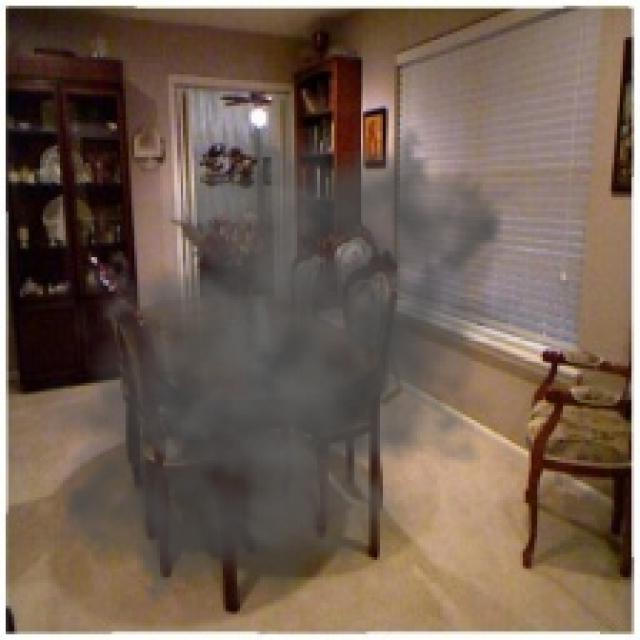smoke: (23, 92, 546, 637)
